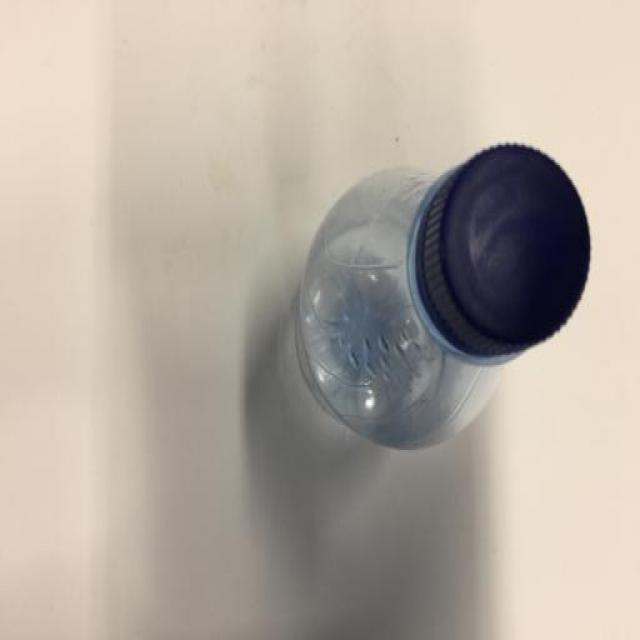Waste: (298, 145, 591, 448)
